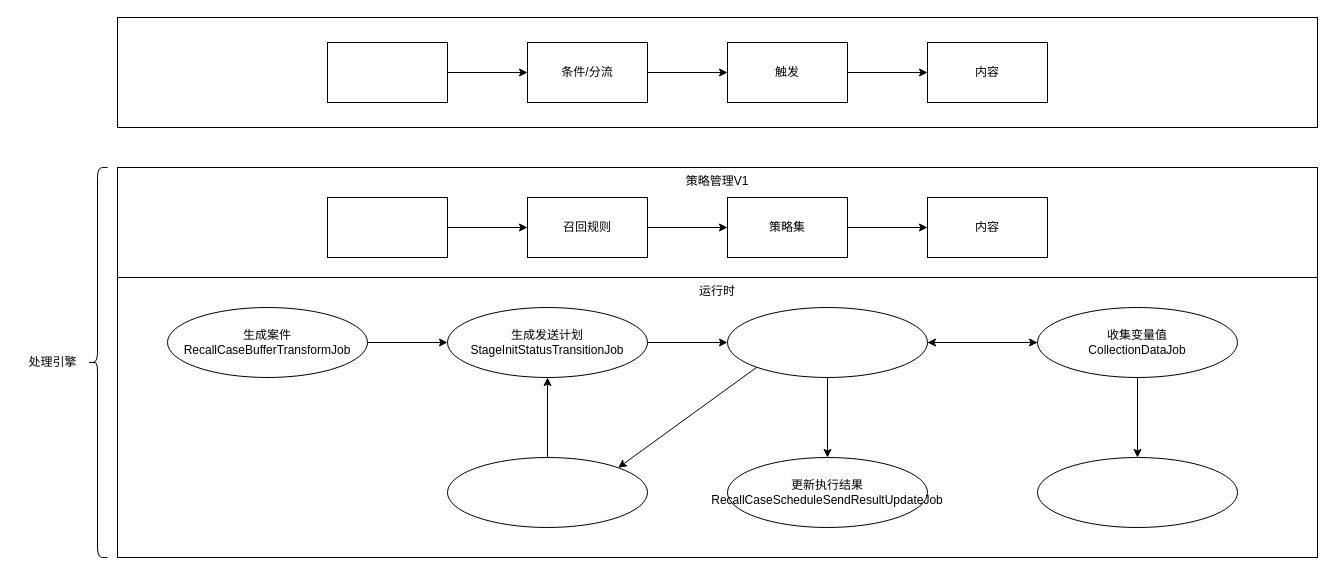
Some shapes in this 1335 by 575 pixel diagram are drawn without their labels. The box of each missing label's shape, as (x1, y1, x2, y2) in pixels:
block超时关案 RecallCaseChangeStatusJob: (1036, 456, 1238, 528)
受众人群: (326, 42, 448, 102)
执行发送计划 StrategyRunJob: (726, 306, 928, 378)
标签: (326, 196, 448, 258)
状态重置 StageProcessingStatusTransitionJob: (446, 456, 648, 528)
策略管理V2: (116, 16, 1318, 128)
